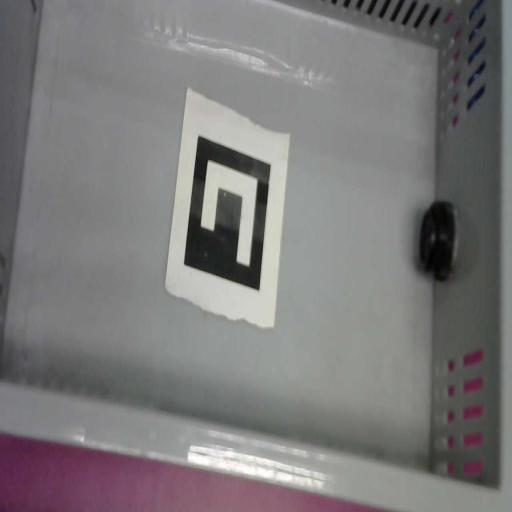QR: (165, 88, 290, 328)
